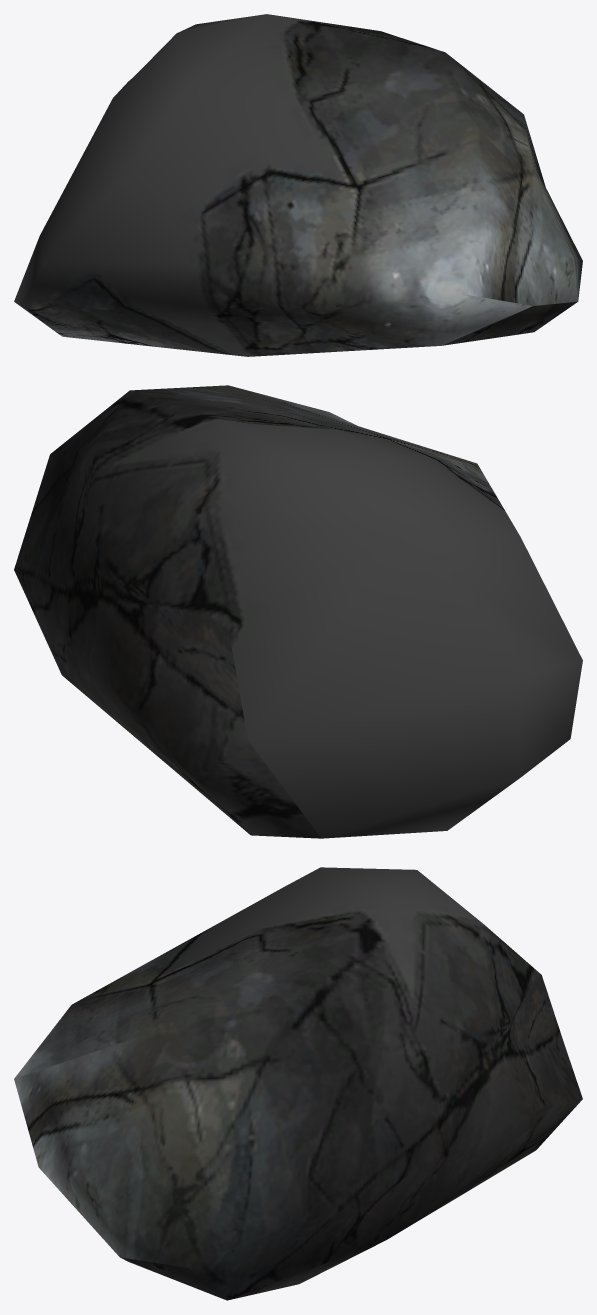
Rendered from SmallRock.FBX.
The picture shows the model from 3 angles, top to bottom: view 1: azimuth 30°, elevation 25°; view 2: azimuth 150°, elevation 25°; view 3: azimuth 270°, elevation 25°; orthographic projection. The views are drawn at different scales.
Visible parts, largest first — view 1: FX_Rock01; view 2: FX_Rock01; view 3: FX_Rock01.
Boxes of the visible parts, box(x1,y1,x2,y2) form: FX_Rock01: box(14, 14, 582, 356); FX_Rock01: box(14, 385, 582, 838); FX_Rock01: box(14, 867, 582, 1300).
Bounding box in the file's own units: 43.02 × 25.47 × 40.07.
